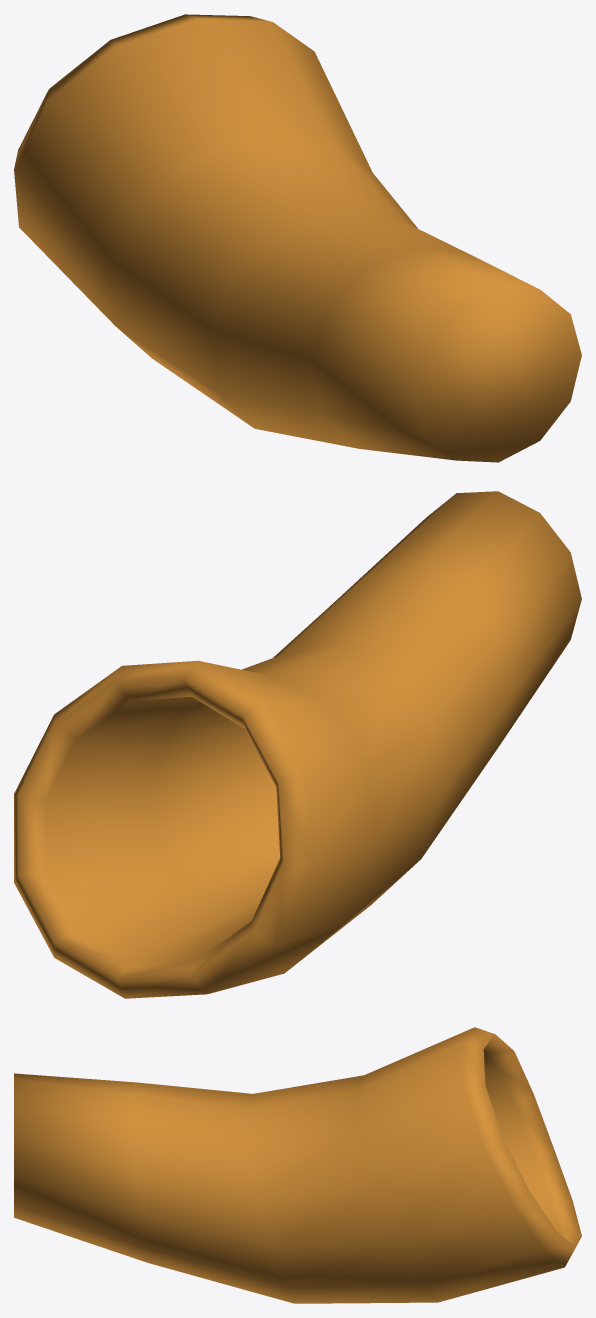
File: coral01c.fbx
3 renders of one model, top to bottom at view 1: azimuth 30°, elevation 25°; view 2: azimuth 150°, elevation 25°; view 3: azimuth 270°, elevation 25°, orthographic. The views are drawn at different scales.
Visible parts, largest first — view 1: Coral01c; view 2: Coral01c; view 3: Coral01c.
Part boxes in pixels (x1,y1,x2,y2): Coral01c: (14, 14, 581, 462); Coral01c: (14, 491, 581, 998); Coral01c: (14, 1027, 581, 1303).
Bounding box in the file's own units: 116 × 124 × 256.
